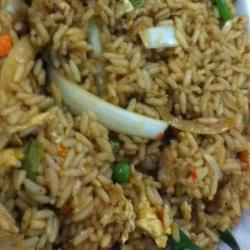rice: (12, 15, 216, 220)
